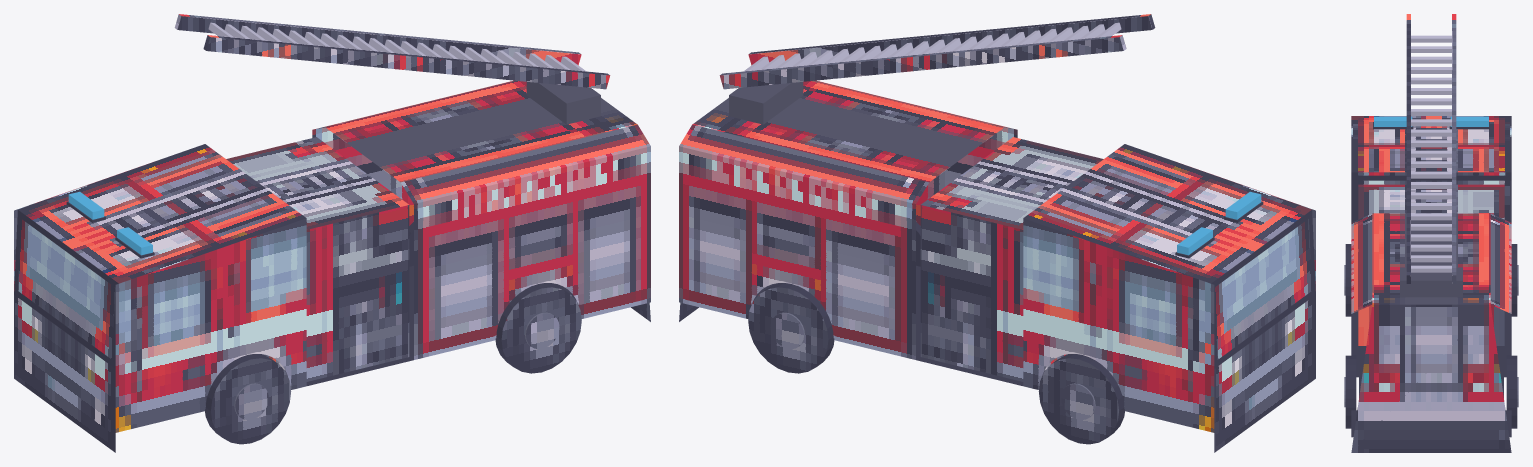
Rendered from fire-truck-ladder-2-v1.glb.
3 views of the same model, side by side, from view 1: azimuth 30°, elevation 25°; view 2: azimuth 150°, elevation 25°; view 3: azimuth 270°, elevation 25° (orthographic). The views are drawn at different scales.
Visible parts, largest first — view 1: Compartments-west, Cab-west, Cab-roof, Pump-platform-2, Compartment-roof, Front-fascia, Pump-platform-0, Windshield-glass, Roof-shoulder-west, Ladder-rail--1-2, Tire_RL, Tire_FL (+10 smaller); view 2: Compartments-east, Cab-east, Cab-roof, Pump-platform-3, Compartment-roof, Front-fascia, Pump-platform-0, Windshield-glass, Roof-shoulder-east, Ladder-rail-1-3, Tire_RR, Tire_FR (+10 smaller); view 3: Rear-equipment, Compartment-roof, Ladder-rungs, Cab-roof, Pump-platform-0, Roof-shoulder-east, Roof-shoulder-west, Ladder-mount, Underfloor, Ladder-rail-1-0, Ladder-rail--1-0, Front-fascia (+9 smaller).
Boxes of the visible parts, x1,y1,x2,y2 form: Compartments-west: (414, 146, 650, 359); Cab-west: (115, 218, 306, 432); Cab-roof: (18, 144, 306, 283); Pump-platform-2: (306, 205, 409, 381); Compartment-roof: (326, 81, 637, 182); Front-fascia: (14, 295, 115, 452); Pump-platform-0: (226, 137, 408, 229); Windshield-glass: (18, 219, 115, 359); Roof-shoulder-west: (401, 124, 650, 203); Ladder-rail--1-2: (206, 37, 609, 89); Tire_RL: (495, 283, 581, 373); Tire_FL: (205, 354, 291, 444); Compartments-east: (679, 146, 915, 359); Cab-east: (1023, 218, 1214, 432); Cab-roof: (1023, 144, 1311, 283); Pump-platform-3: (920, 205, 1023, 381); Compartment-roof: (692, 81, 1003, 182); Front-fascia: (1214, 295, 1315, 452); Pump-platform-0: (921, 137, 1103, 229); Windshield-glass: (1214, 219, 1311, 359); Roof-shoulder-east: (679, 124, 928, 203); Ladder-rail-1-3: (720, 37, 1123, 89); Tire_RR: (748, 283, 834, 373); Tire_FR: (1038, 354, 1124, 444); Rear-equipment: (1351, 304, 1511, 452); Compartment-roof: (1372, 213, 1490, 304); Ladder-rungs: (1411, 35, 1451, 272); Cab-roof: (1351, 116, 1511, 172); Pump-platform-0: (1358, 184, 1504, 219); Roof-shoulder-east: (1490, 213, 1511, 313); Roof-shoulder-west: (1351, 213, 1372, 313); Ladder-mount: (1400, 267, 1462, 297); Underfloor: (1351, 311, 1511, 437); Ladder-rail-1-0: (1452, 14, 1456, 275); Ladder-rail--1-0: (1406, 14, 1410, 275); Front-fascia: (1351, 180, 1511, 222).
Size of the model in its own units: 140 by 94.61 by 50.1.
1 material, 1 textured.
